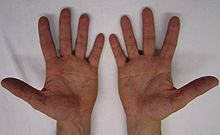finger: (159, 13, 184, 58), (36, 15, 59, 59), (56, 6, 75, 57), (138, 5, 157, 55), (119, 16, 141, 56), (73, 11, 90, 60), (108, 32, 126, 62), (90, 31, 104, 68)
